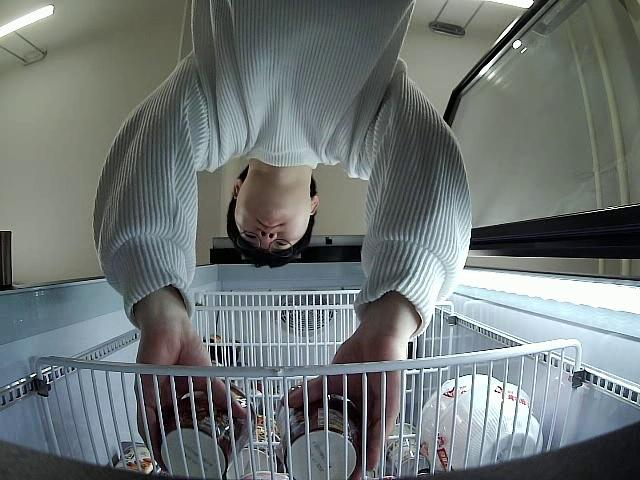00_hand: (281, 312, 404, 480), (134, 317, 244, 467)
06_nuguri_S: (154, 377, 258, 480), (275, 397, 361, 480)
